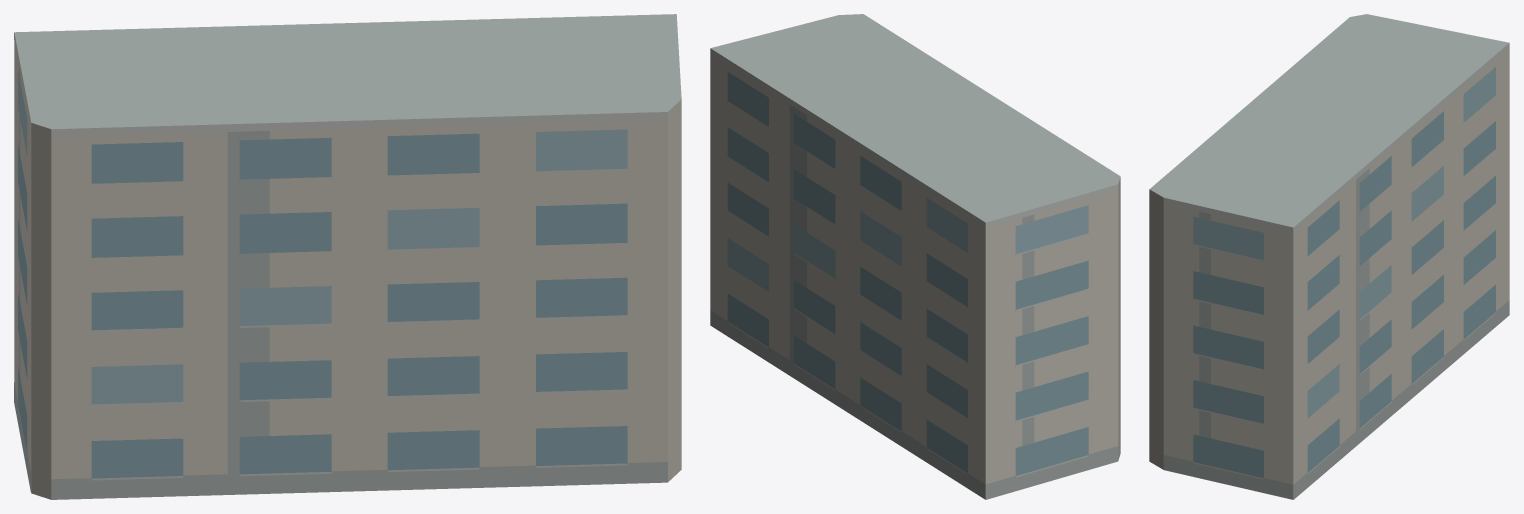
The model's file is survey-upis-32730432.glb.
The picture shows the model from 3 angles, left to right: view 1: azimuth 30°, elevation 25°; view 2: azimuth 150°, elevation 25°; view 3: azimuth 270°, elevation 25°; orthographic projection. The views are drawn at different scales.
Visible parts, largest first — view 1: survey-upis-32730432.tmp; view 2: survey-upis-32730432.tmp; view 3: survey-upis-32730432.tmp.
Boxes of the visible parts, x1,y1,x2,y2 form: survey-upis-32730432.tmp: (14,14,681,499); survey-upis-32730432.tmp: (710,14,1120,499); survey-upis-32730432.tmp: (1149,14,1509,499).
Bounding box in the file's own units: 19.68 × 11.7 × 14.03.
